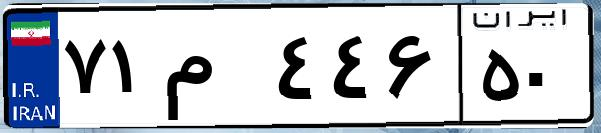0: (525, 38, 570, 115)
1: (110, 28, 158, 98)
4: (270, 28, 330, 110), (330, 28, 385, 110)
5: (475, 38, 525, 113)
6: (385, 28, 445, 110)
7: (57, 26, 110, 100)
م: (158, 20, 270, 120)
